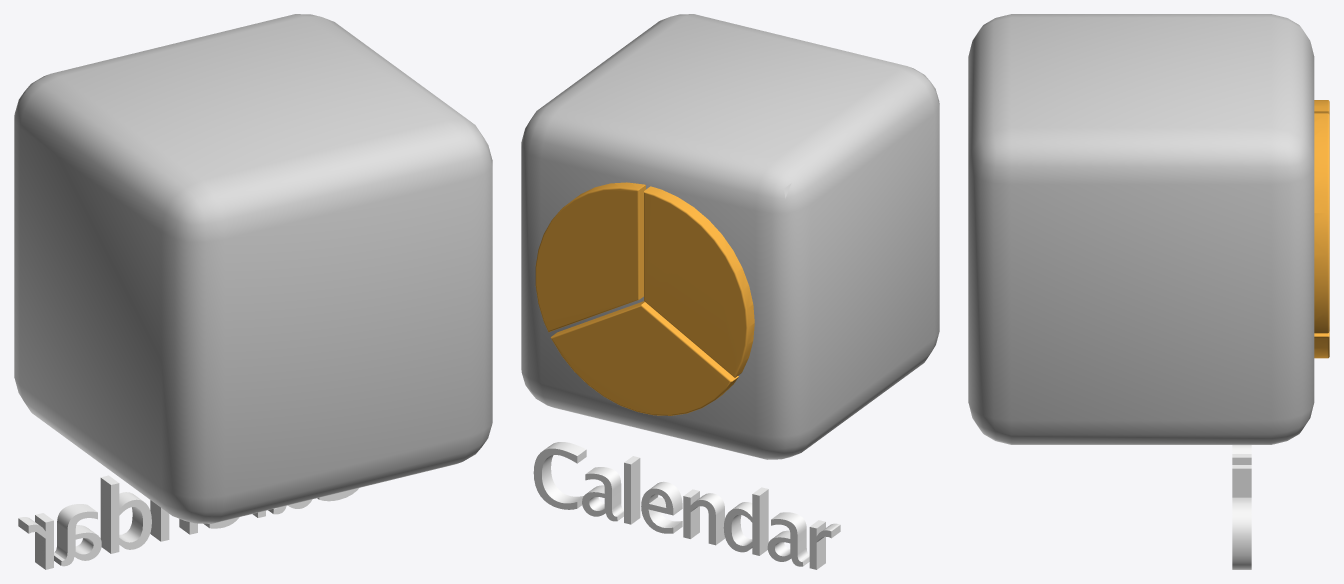
File: Calendar.obj
3 views of the same model, side by side, from view 1: azimuth 30°, elevation 25°; view 2: azimuth 150°, elevation 25°; view 3: azimuth 270°, elevation 25° (orthographic). The views are drawn at different scales.
Visible parts, largest first — view 1: Calendar; view 2: Calendar; view 3: Calendar.
Boxes of the visible parts, x1,y1,x2,y2 form: Calendar: (14, 14, 492, 569); Calendar: (521, 14, 939, 569); Calendar: (968, 14, 1329, 569).
Bounding box in the file's own units: 2.96 × 3.91 × 2.96.
Materials: 3 (1 with a texture image).
